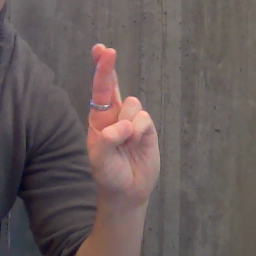R: (82, 39, 168, 192)
